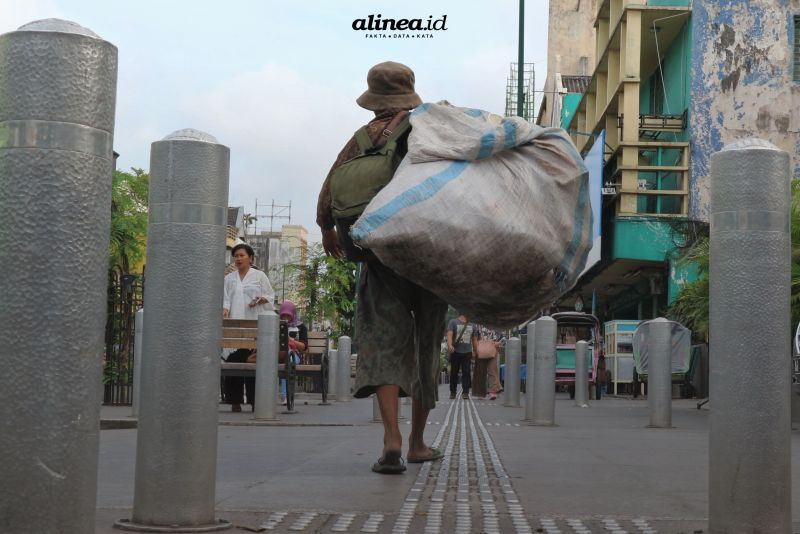pemulung: (311, 56, 608, 485)
